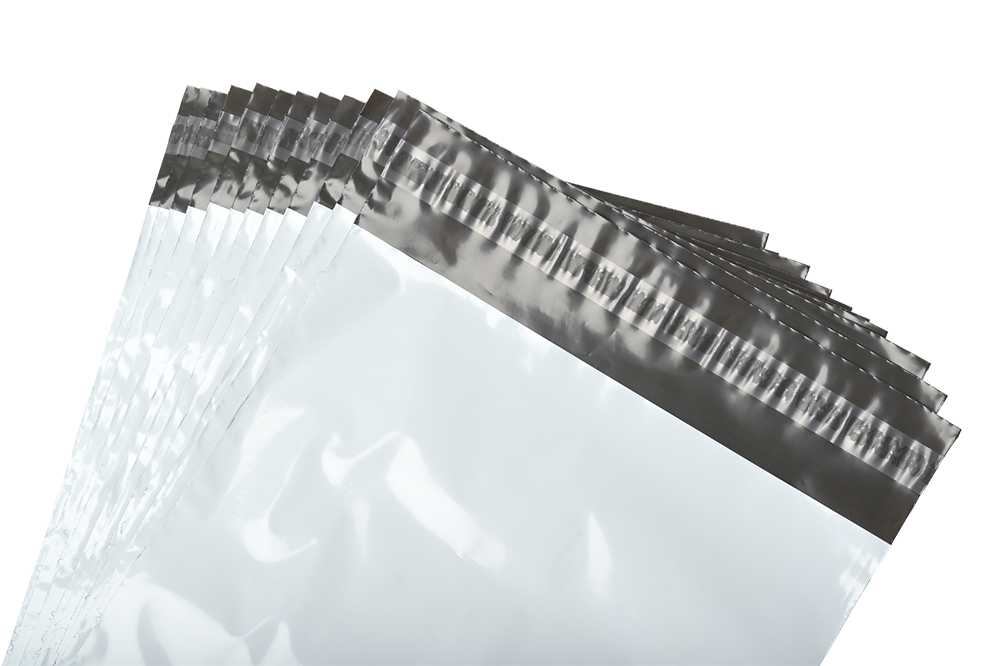Parcel: (5, 85, 958, 665)
